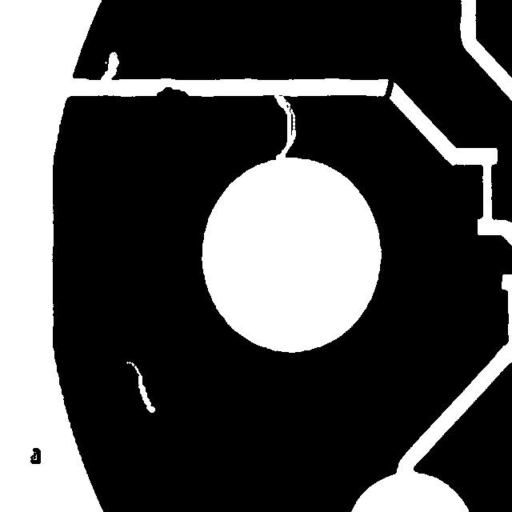copper: (22, 440, 48, 471)
mousebite: (93, 44, 125, 88)
open: (266, 86, 303, 169)
pin-hole: (118, 354, 162, 420)
short: (374, 71, 401, 111)
spur: (149, 79, 196, 108)
